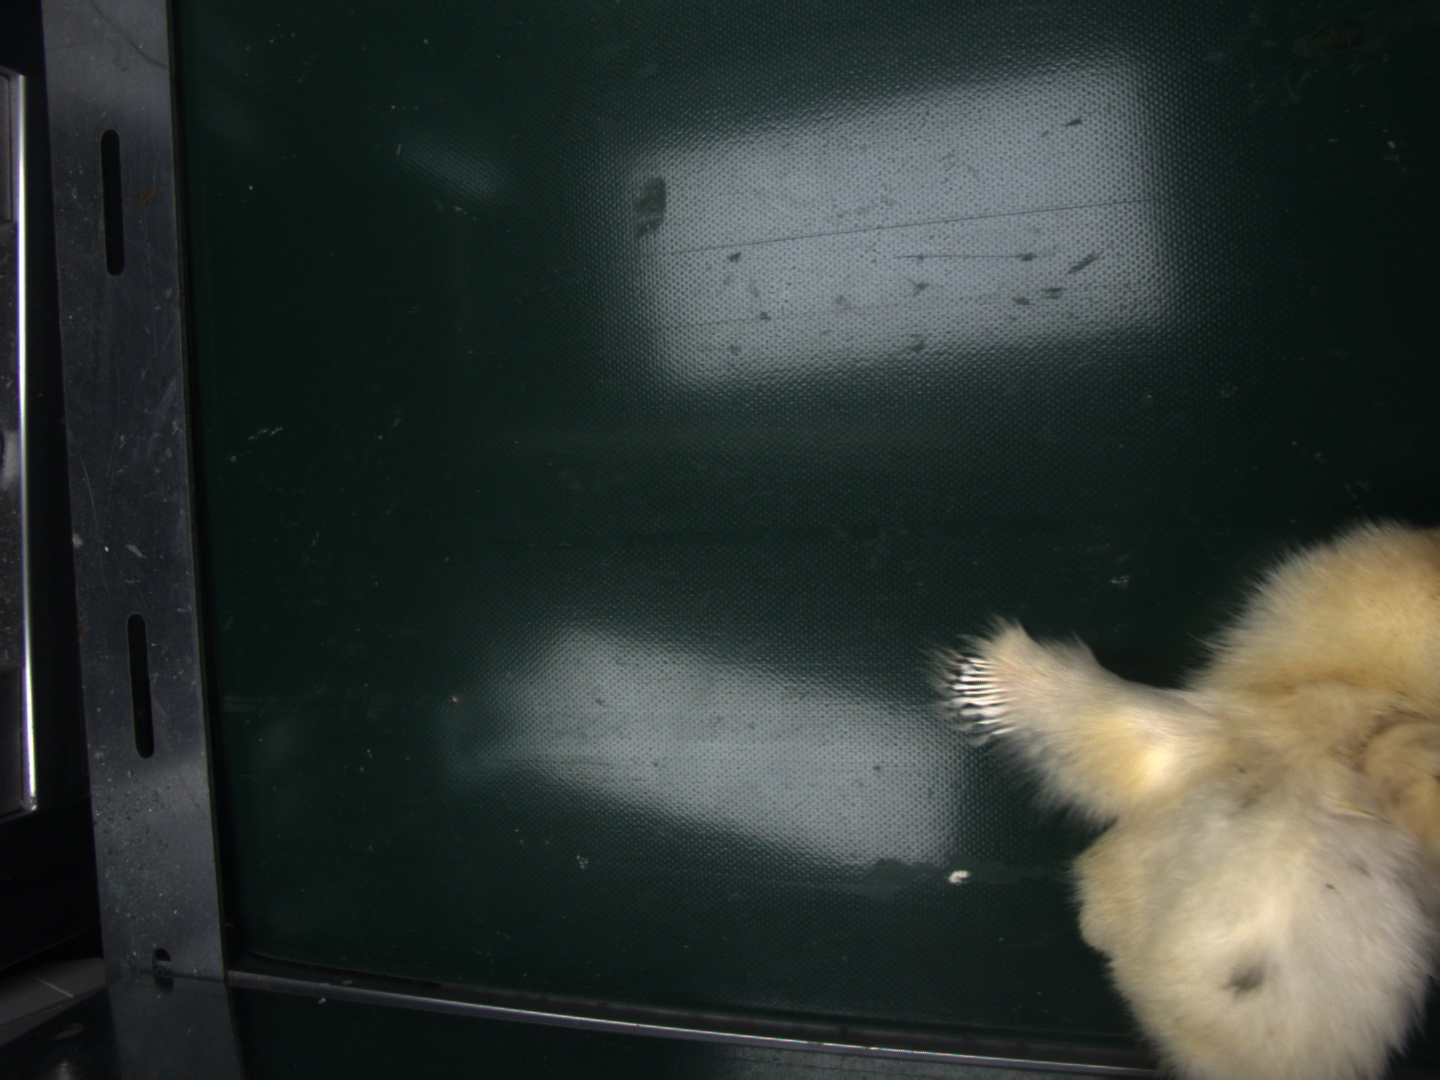male: (951, 650, 1014, 736)
